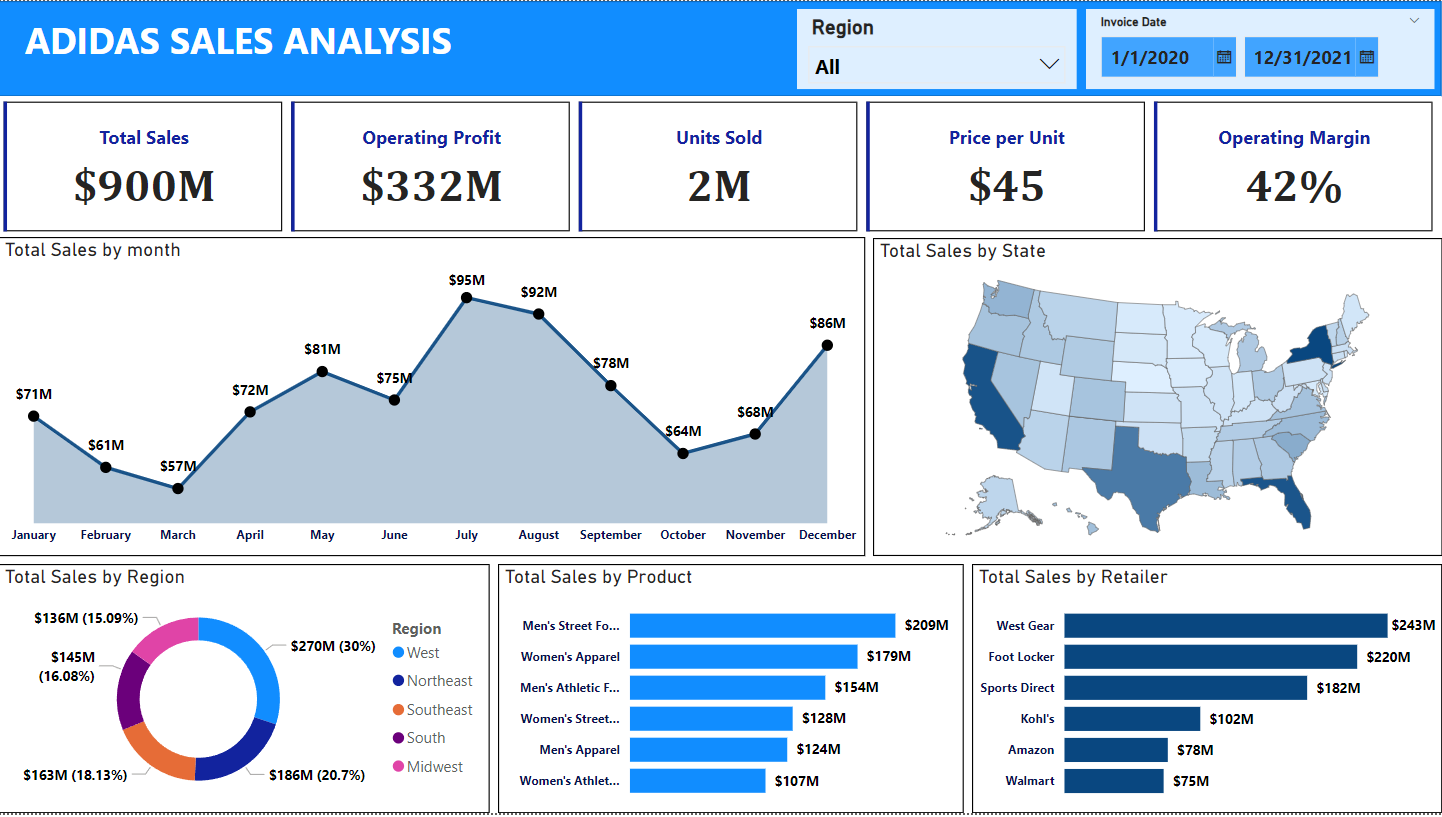

The dashboard page shown, as its layout file describes it:
{"tool":"powerbi","page":{"name":"Page 1","canvas":[1280,720],"ordinal":0},"visuals":[{"type":"shape","box":[0,0,1280,84.6],"z":0},{"type":"textbox","box":[18.5,6.8,621.5,71],"z":1000},{"type":"cardVisual","fields":{"Data":["Sum(Data Sales Adidas.Total Sales)","Sum(Data Sales Adidas.Operating Profit)","Sum(Data Sales Adidas.Units Sold)","Avg(Data Sales Adidas.Price per Unit)","Avg(Data Sales Adidas.Operating Margin)"]},"box":[0,84.6,1280,125],"z":2000},{"type":"areaChart","title":"Total Sales by month","fields":{"Y":["Sum(Data Sales Adidas.Total Sales)"],"Category":["Data Sales Adidas.Invoice Date.Variation.Date Hierarchy.Month"]},"box":[0,209,769,282.8],"z":3000},{"type":"shapeMap","title":" Total Sales by State","fields":{"Category":["Data Sales Adidas.State"],"Value":["Sum(Data Sales Adidas.Total Sales)"]},"box":[775.9,210.1,504.5,282],"z":4000},{"type":"donutChart","fields":{"Y":["Sum(Data Sales Adidas.Total Sales)"],"Category":["Data Sales Adidas.Region"]},"box":[0,499.5,436.3,220.5],"z":5000},{"type":"barChart","fields":{"Category":["Data Sales Adidas.Product"],"Y":["Sum(Data Sales Adidas.Total Sales)"]},"box":[443,499.5,413.2,220.5],"z":6000},{"type":"barChart","fields":{"Category":["Data Sales Adidas.Retailer"],"Y":["Sum(Data Sales Adidas.Total Sales)"]},"box":[863.6,499.2,416.7,220.8],"z":7000},{"type":"slicer","fields":{"Values":["Data Sales Adidas.Region"]},"box":[708.6,6.7,248.3,71],"z":8000},{"type":"slicer","fields":{"Values":["Data Sales Adidas.Invoice Date"]},"box":[964.6,6.7,308.7,71],"z":9000}]}

Visuals, with their boxes in screenshot pixels (x1, y1, x2, y2), scaled from the page's 1280x720 canvas onto the 1442x817 screenshot:
shape: left=0, top=0, right=1441, bottom=96
textbox: left=21, top=8, right=721, bottom=88
cardVisual - Sum(Data Sales Adidas.Total Sales) x Sum(Data Sales Adidas.Operating Profit): left=0, top=96, right=1441, bottom=238
"Total Sales by month" areaChart: left=0, top=237, right=866, bottom=558
" Total Sales by State" shapeMap: left=874, top=238, right=1441, bottom=558
donutChart - Sum(Data Sales Adidas.Total Sales) x Data Sales Adidas.Region: left=0, top=567, right=492, bottom=816
barChart - Data Sales Adidas.Product x Sum(Data Sales Adidas.Total Sales): left=499, top=567, right=965, bottom=816
barChart - Data Sales Adidas.Retailer x Sum(Data Sales Adidas.Total Sales): left=973, top=566, right=1441, bottom=816
slicer - Data Sales Adidas.Region: left=798, top=8, right=1078, bottom=88
slicer - Data Sales Adidas.Invoice Date: left=1087, top=8, right=1434, bottom=88
